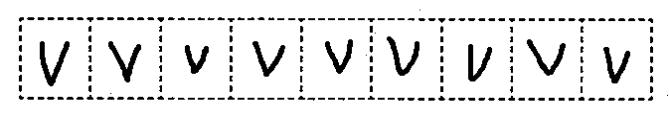V: (519, 33, 571, 79), (380, 33, 427, 83), (244, 34, 293, 80), (105, 36, 148, 87), (32, 35, 71, 89), (458, 40, 498, 86), (319, 34, 359, 77), (595, 44, 635, 86), (178, 39, 214, 80)
